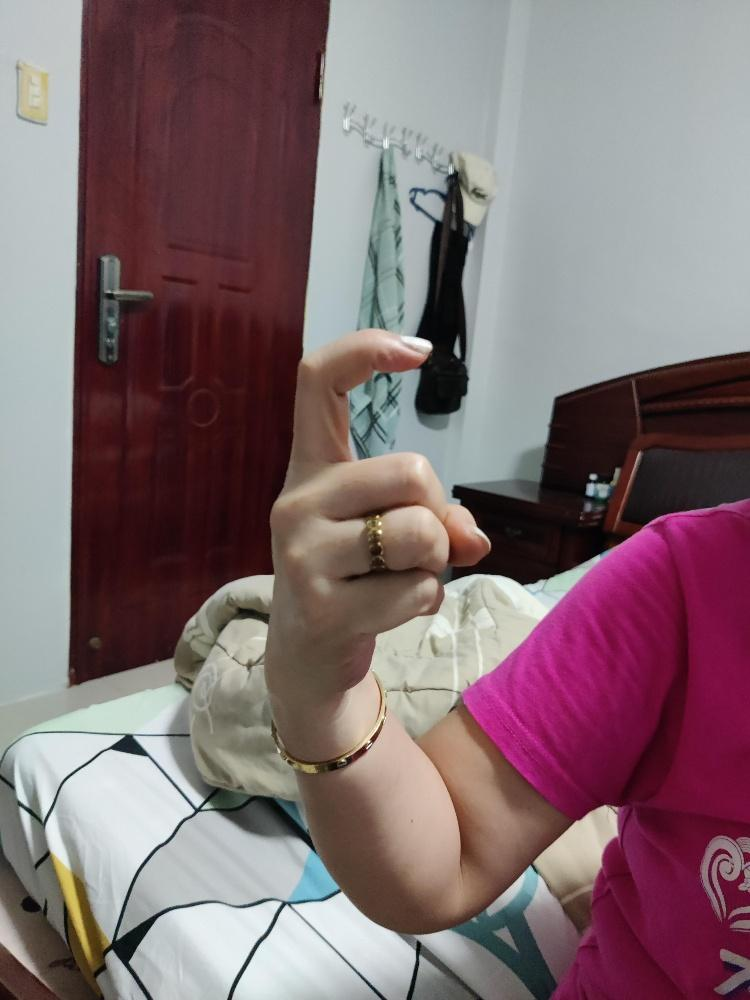x: (264, 325, 491, 695)
